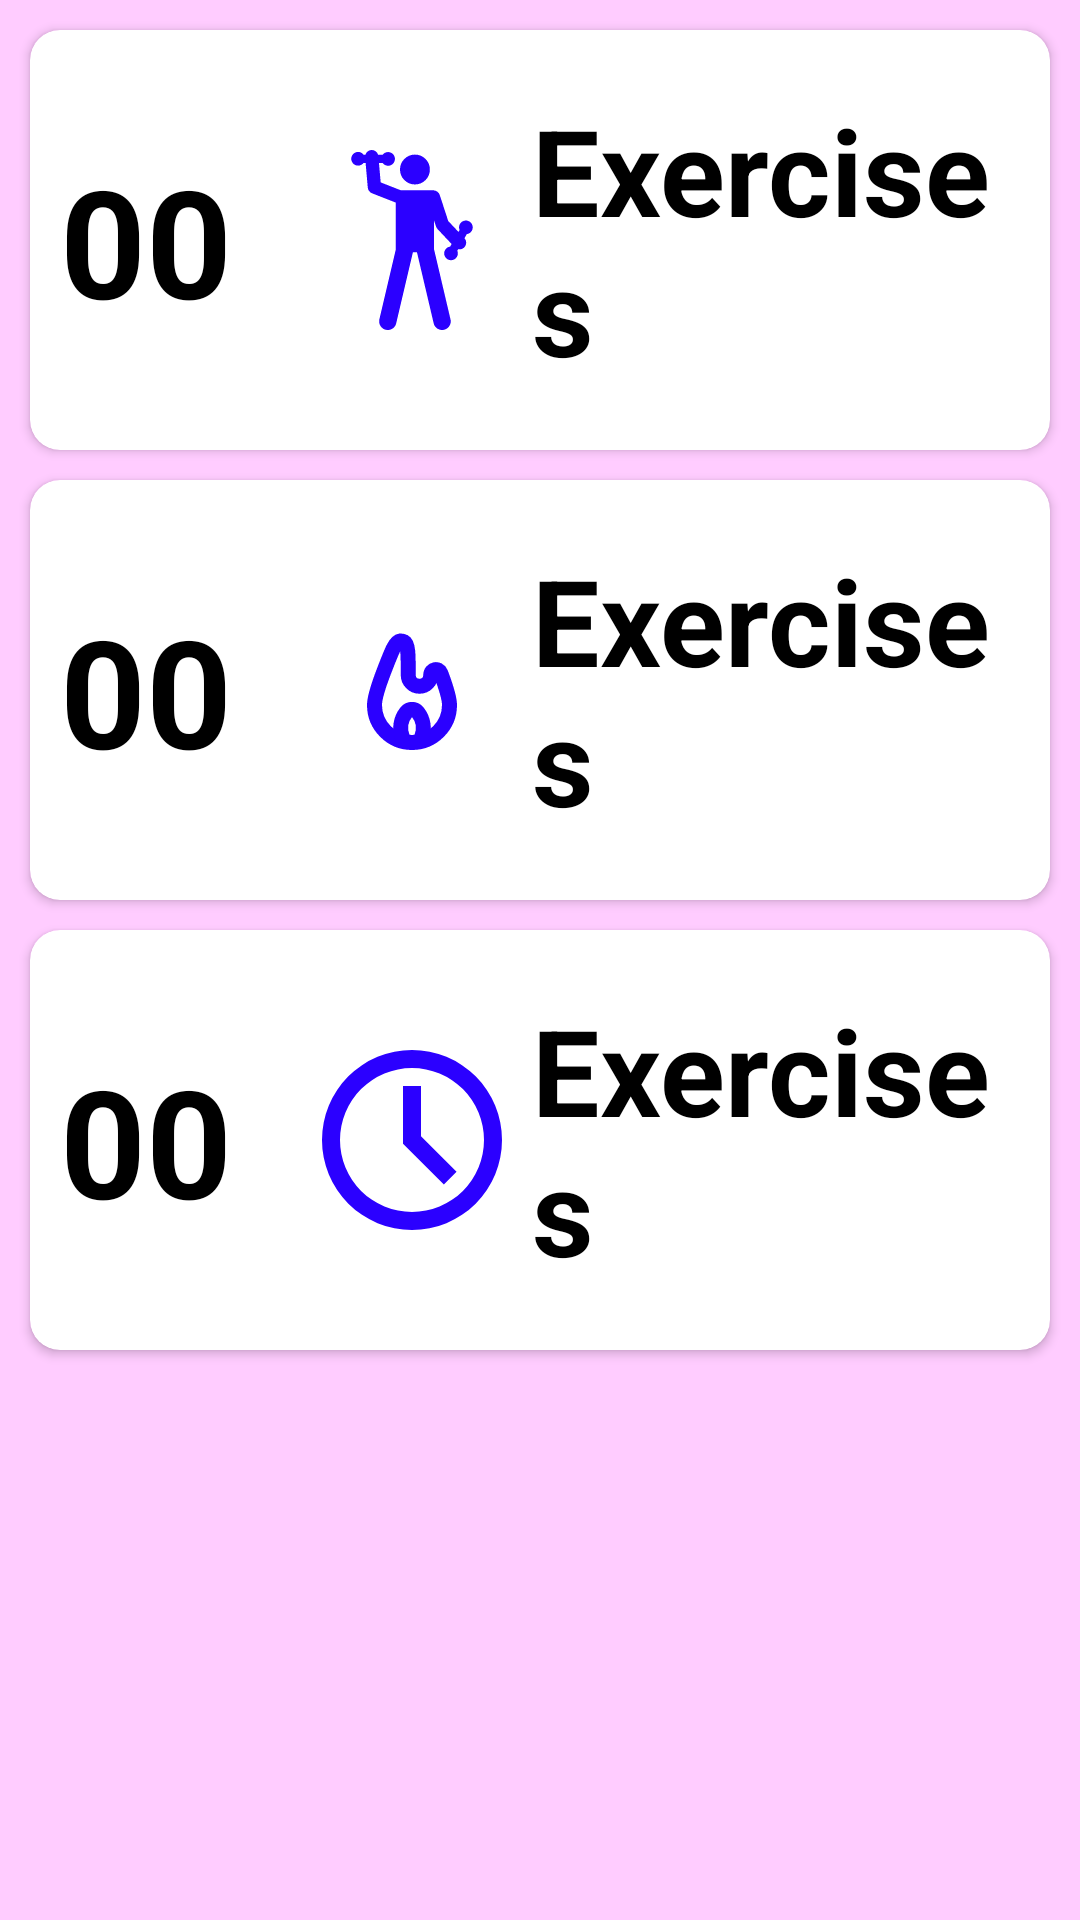

Named icons in this screenshot (1080*1920) and their centers, (x=x, y=y):
duration dr: (x=412, y=1140)
exercise dr: (x=412, y=240)
kcal dr: (x=412, y=691)
